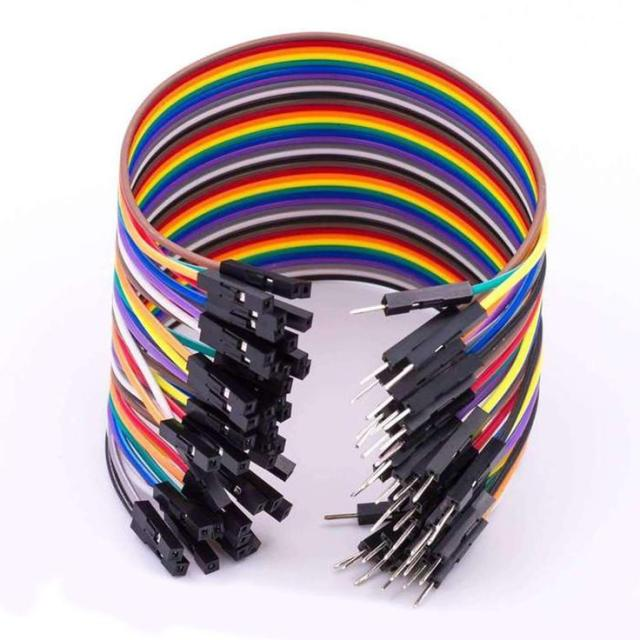Jumper Wires: (74, 21, 562, 612)
